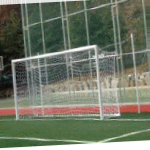goals: (11, 43, 121, 121)
